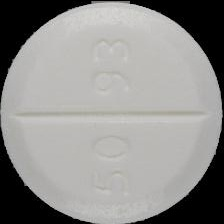43063-426: (0, 0, 224, 224)
